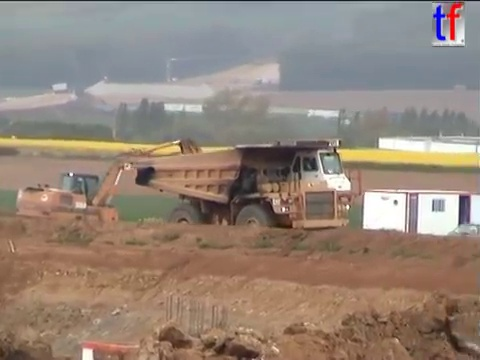excavator: (13, 136, 226, 243)
truck: (133, 137, 365, 251)
